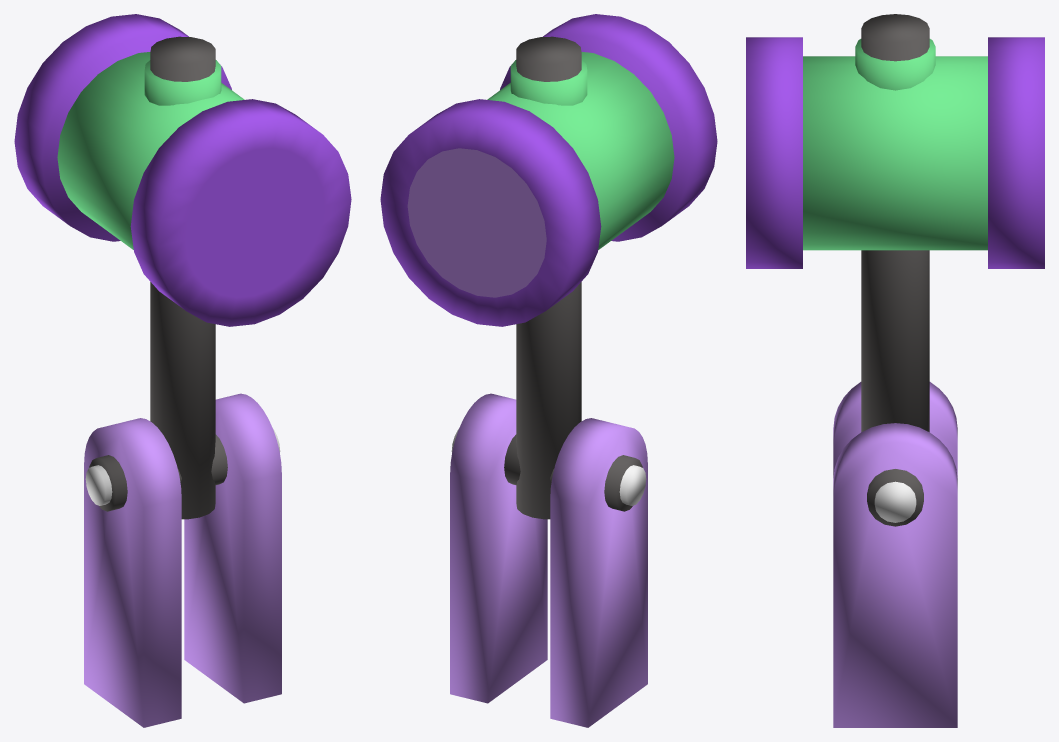
Rendered from Obstacle 8 V4.fbx.
The picture shows the model from 3 angles, left to right: view 1: azimuth 30°, elevation 25°; view 2: azimuth 150°, elevation 25°; view 3: azimuth 270°, elevation 25°; orthographic projection. The views are drawn at different scales.
Parts seen in each view (by area): view 1: O8 Part 2, O8 Part 1; view 2: O8 Part 2, O8 Part 1; view 3: O8 Part 2, O8 Part 1.
Part boxes in pixels (<box>): O8 Part 2: <box>14,14,351,519</box>; O8 Part 1: <box>84,393,281,727</box>; O8 Part 2: <box>380,14,717,519</box>; O8 Part 1: <box>450,393,647,727</box>; O8 Part 2: <box>746,14,1044,526</box>; O8 Part 1: <box>833,382,957,727</box>.
Bounding box in the file's own units: 71.86 × 227 × 92.36.
1 material, 1 textured.
